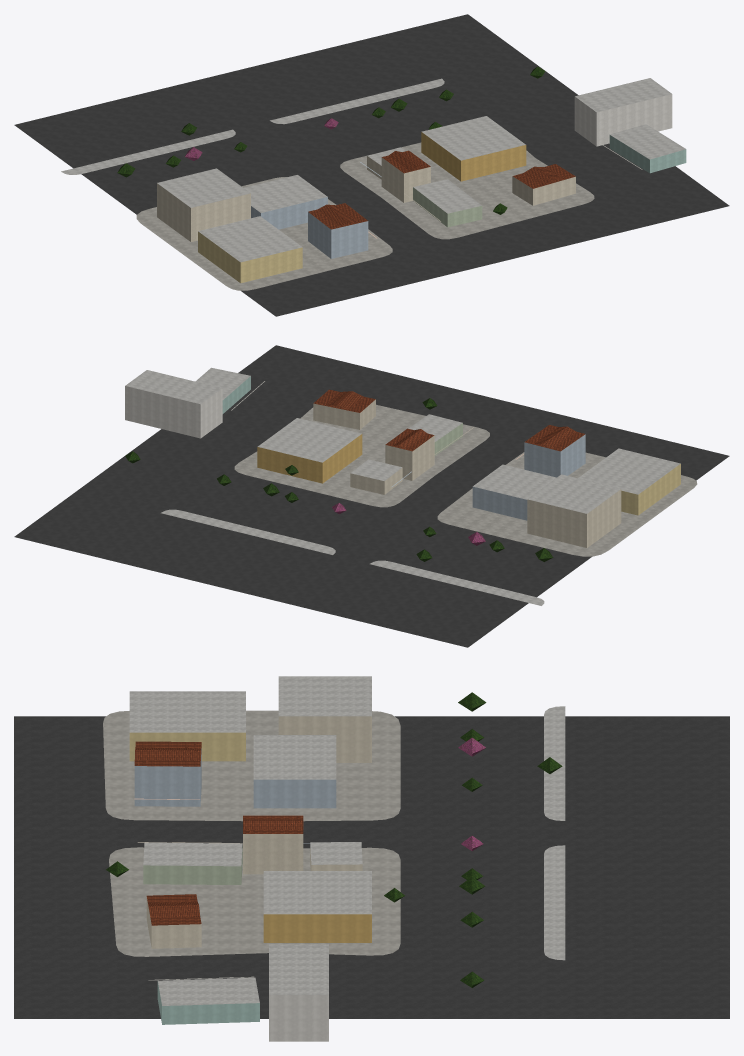
File: cidade_S04_02_lod.gltf
3 views of the same model, one above another, from view 1: azimuth 30°, elevation 25°; view 2: azimuth 150°, elevation 25°; view 3: azimuth 270°, elevation 25° (orthographic). The views are drawn at different scales.
Visible parts, largest first — view 1: S04_02_Chao_LOD2, S04_02_Edificios_LOD1, S04_02_Silhueta_LOD2, S04_02_Vegetacao_LOD2; view 2: S04_02_Chao_LOD2, S04_02_Edificios_LOD1, S04_02_Silhueta_LOD2, S04_02_Vegetacao_LOD2; view 3: S04_02_Chao_LOD2, S04_02_Edificios_LOD1, S04_02_Silhueta_LOD2, S04_02_Vegetacao_LOD2.
Boxes of the visible parts, x1,y1,x2,y2 form: S04_02_Chao_LOD2: (14, 14, 729, 316); S04_02_Edificios_LOD1: (157, 78, 686, 283); S04_02_Silhueta_LOD2: (308, 150, 575, 258); S04_02_Vegetacao_LOD2: (117, 66, 545, 214); S04_02_Chao_LOD2: (14, 345, 729, 647); S04_02_Edificios_LOD1: (125, 367, 680, 547); S04_02_Silhueta_LOD2: (313, 389, 585, 480); S04_02_Vegetacao_LOD2: (125, 398, 553, 561); S04_02_Chao_LOD2: (14, 706, 729, 1018); S04_02_Edificios_LOD1: (129, 676, 371, 1041); S04_02_Silhueta_LOD2: (134, 741, 303, 948); S04_02_Vegetacao_LOD2: (106, 692, 562, 987).
Bounding box in the file's own units: 111 × 7.37 × 100.
Materials: 16 (16 with a texture image).
